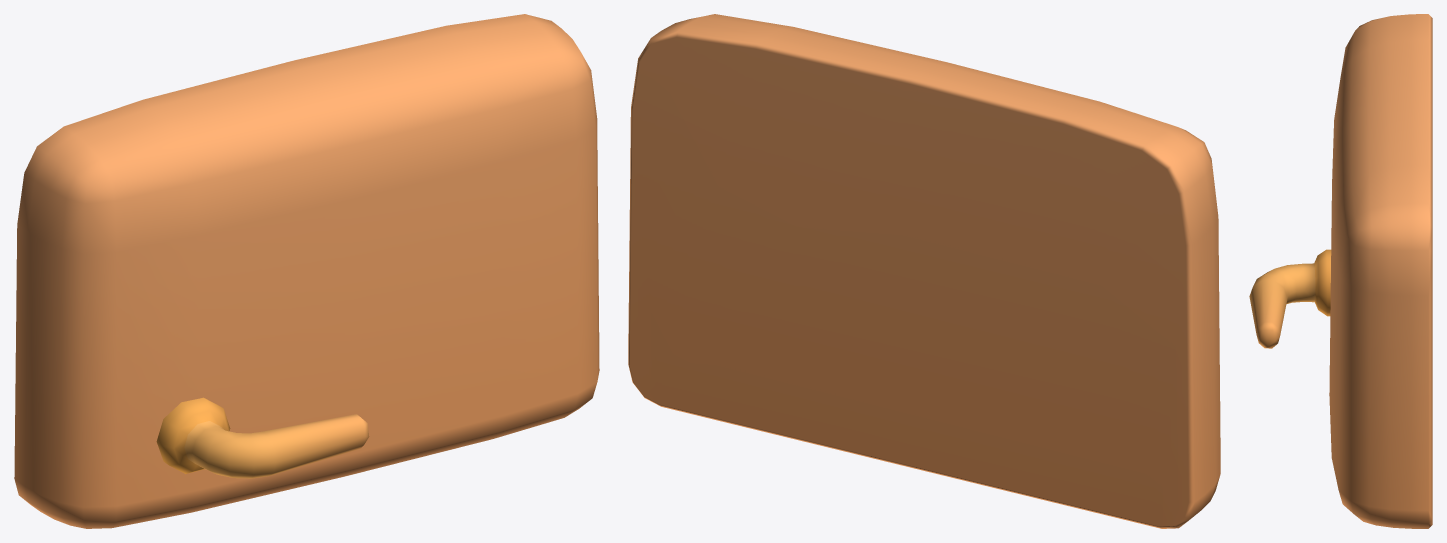
File: Fridge_Door_01_001.fbx
3 renders of one model, left to right at view 1: azimuth 30°, elevation 25°; view 2: azimuth 150°, elevation 25°; view 3: azimuth 270°, elevation 25°, orthographic. The views are drawn at different scales.
Visible parts, largest first — view 1: Fridge_Door_01_001; view 2: Fridge_Door_01_001; view 3: Fridge_Door_01_001.
Part boxes in pixels (bbox=[...]): Fridge_Door_01_001: bbox=[14, 14, 599, 528]; Fridge_Door_01_001: bbox=[628, 14, 1220, 528]; Fridge_Door_01_001: bbox=[1249, 14, 1432, 528].
Bounding box in the file's own units: 67.89 × 22.85 × 44.61.
